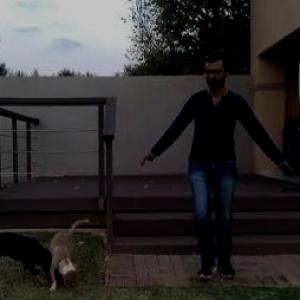land: (140, 62, 299, 284)
